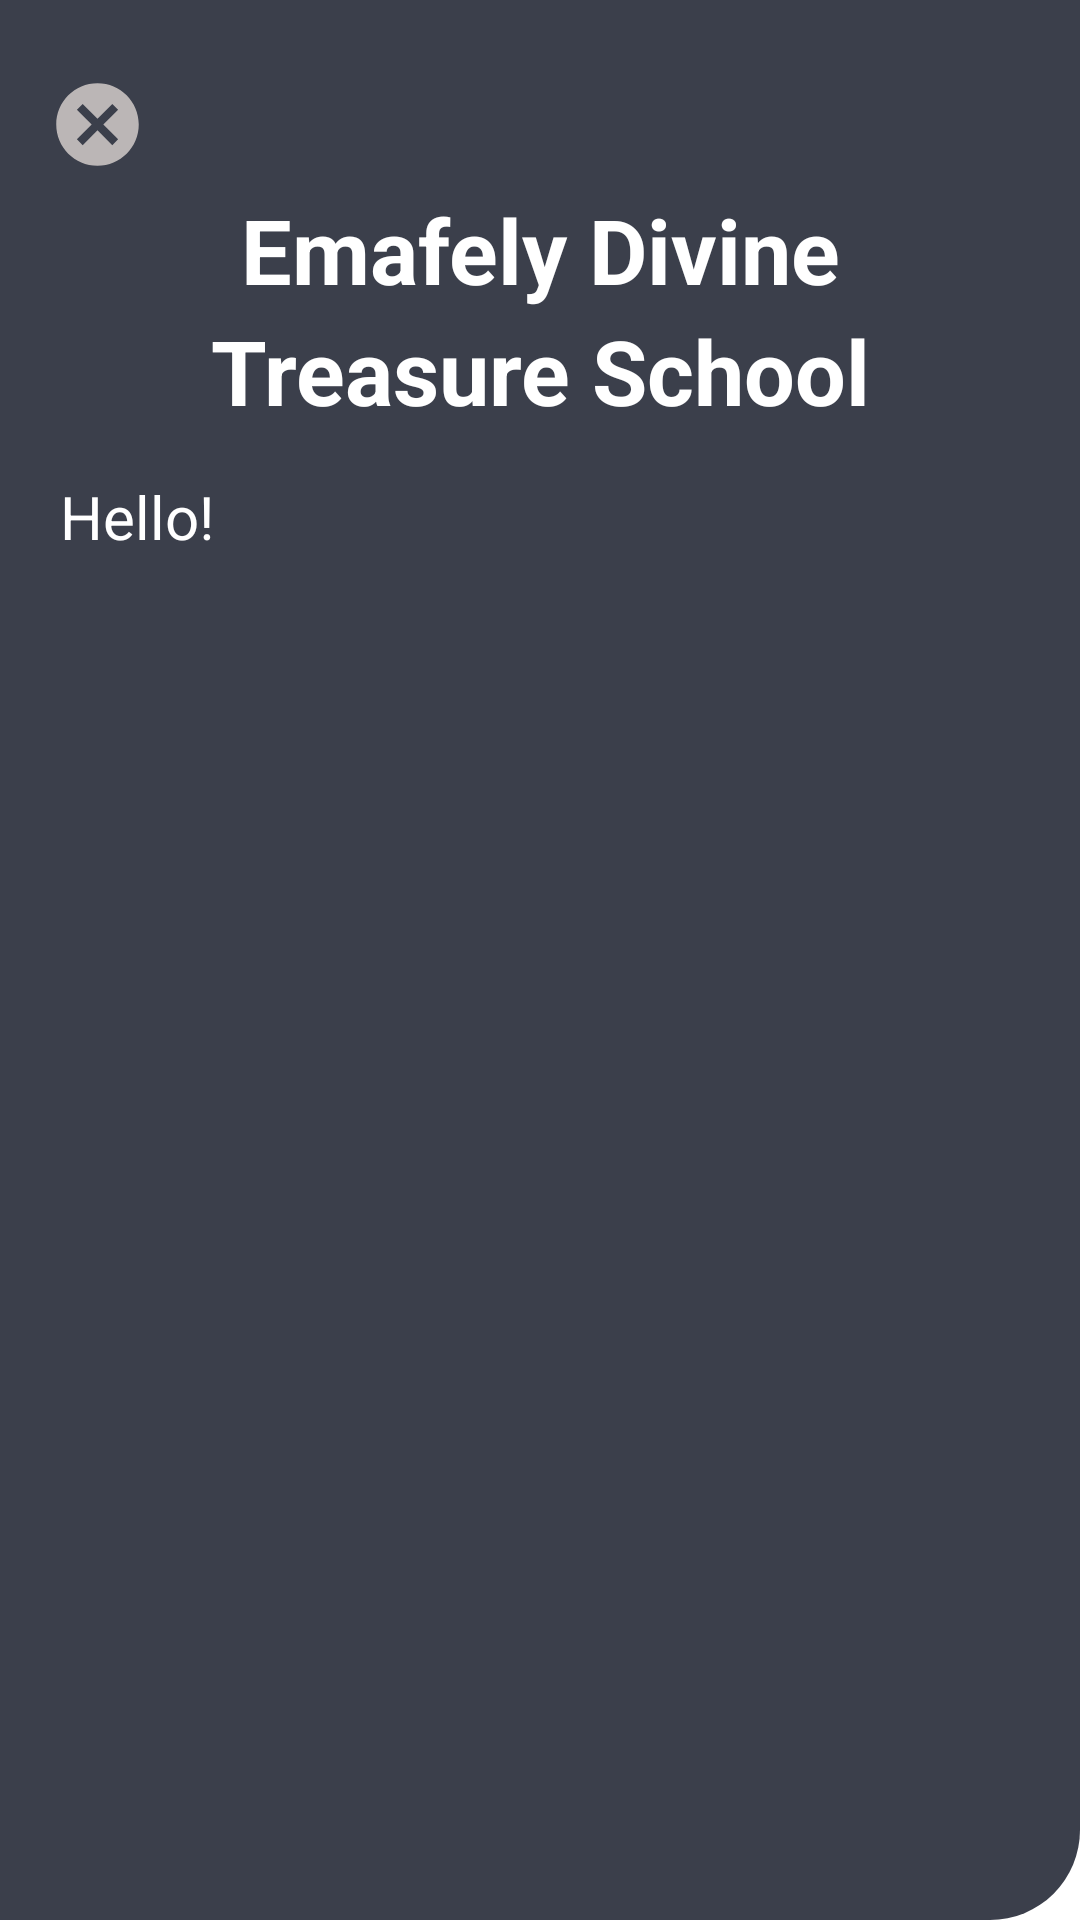

Named icons in this screenshot (1080px x 1920px) and their bounding boxes, (x1, y1, x2, y2):
cancel: (56, 83, 139, 166)
